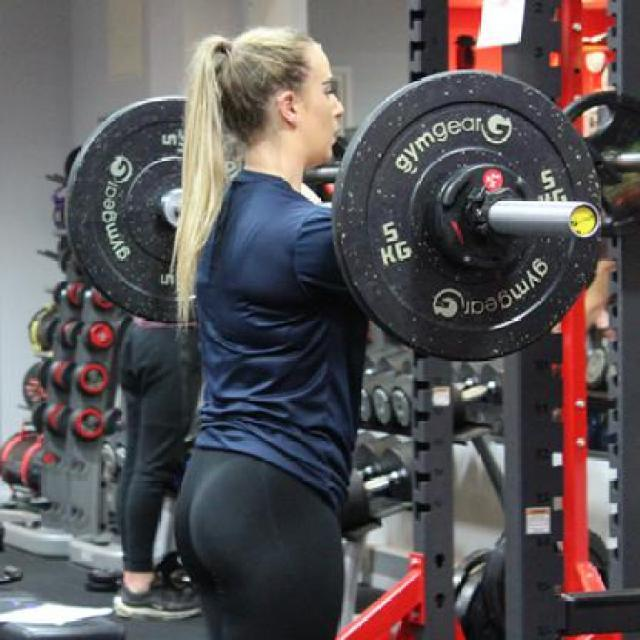Barbell: (570, 202, 601, 238)
